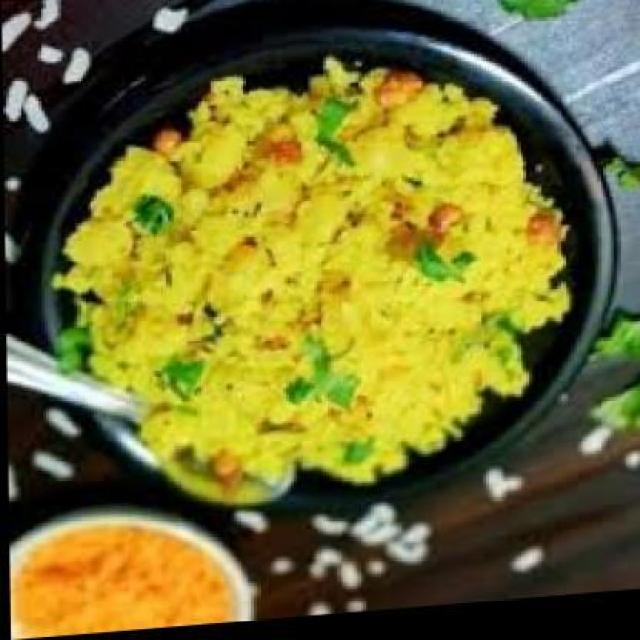poha: (46, 48, 569, 517)
